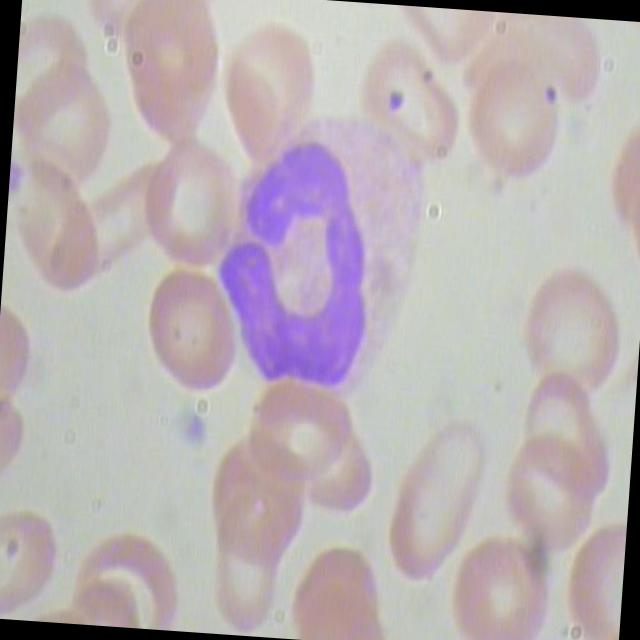RBC: (380, 412, 490, 589), (204, 17, 322, 176), (110, 0, 232, 150), (514, 264, 624, 412), (133, 262, 250, 397), (136, 141, 253, 276), (0, 158, 101, 304), (460, 54, 564, 191), (354, 39, 464, 168), (496, 428, 596, 554), (240, 384, 358, 489), (446, 534, 561, 640), (211, 482, 286, 638)
WBC: (196, 111, 432, 407)
